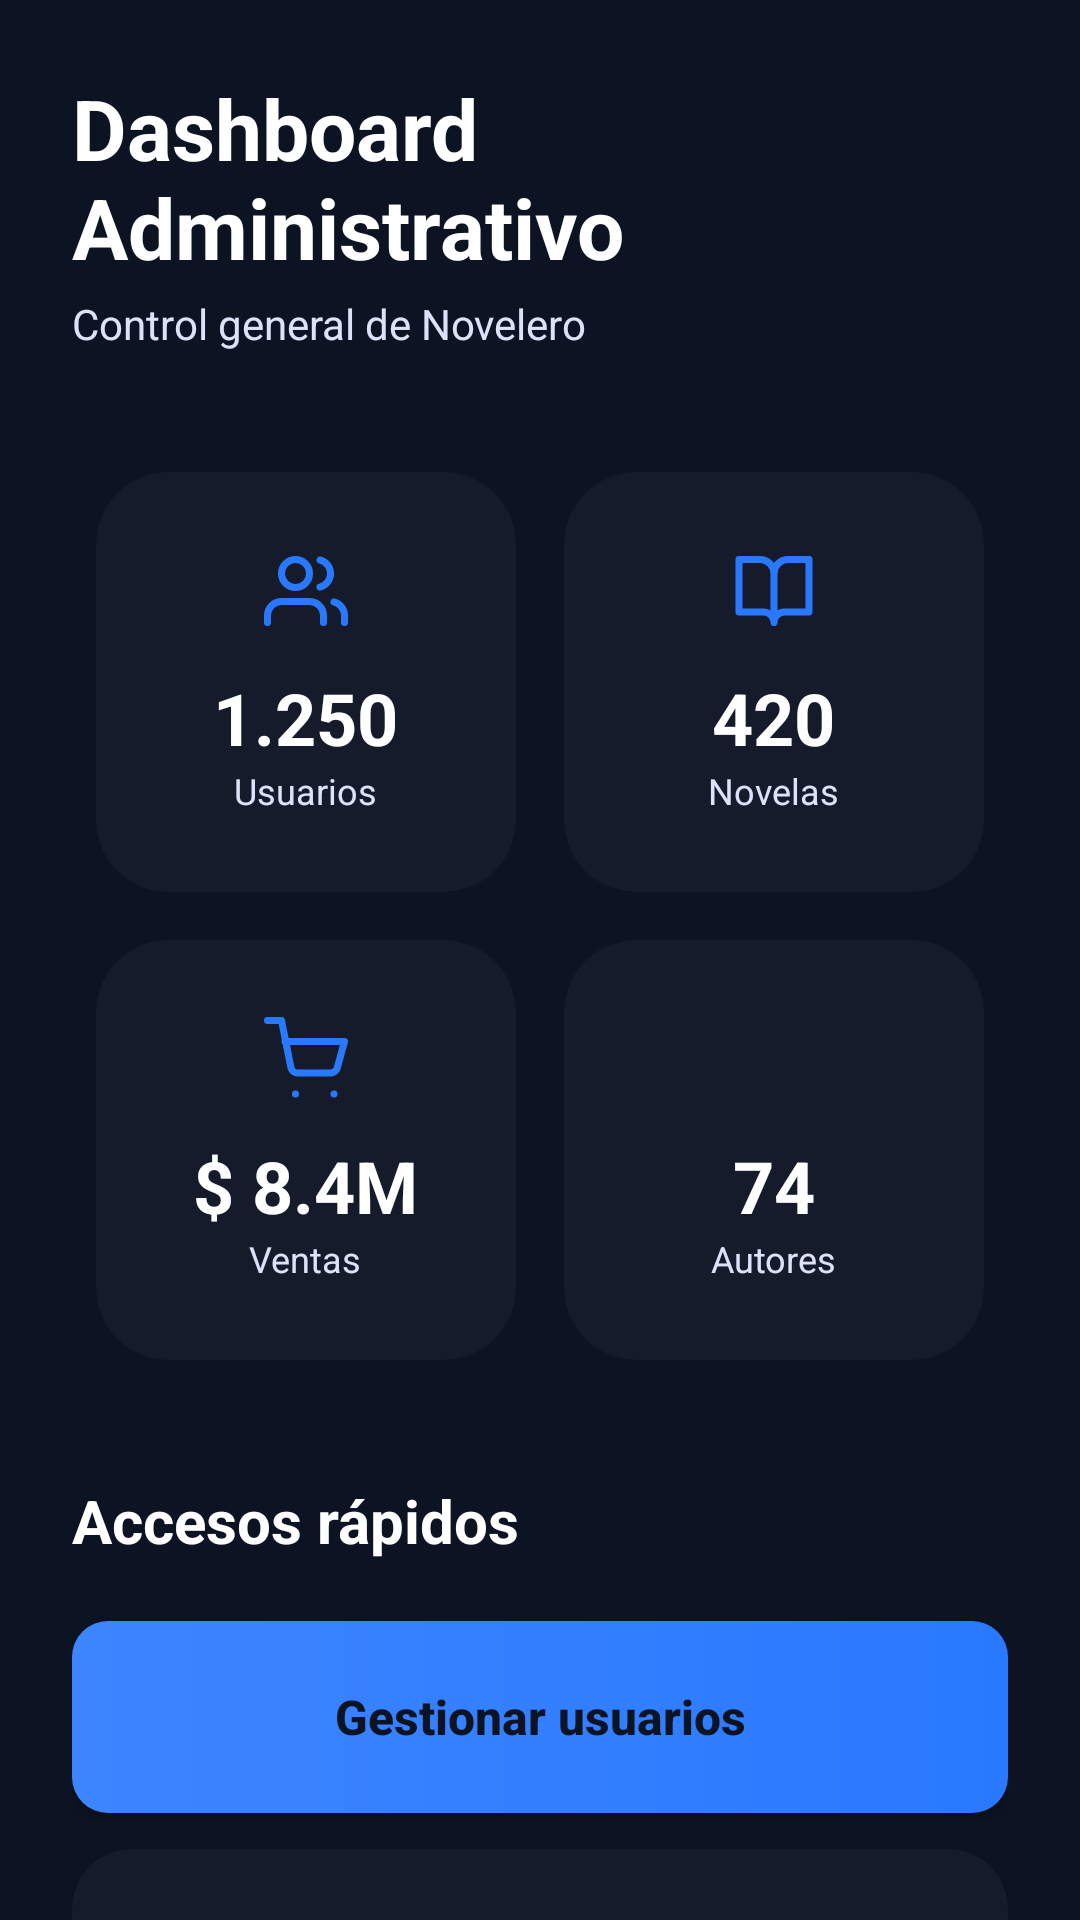

Point at icon controls on the screen. Image size 1080 x 1920, points as point (x, y).
carrito: point (306, 1057)
libro abierto: point (774, 591)
